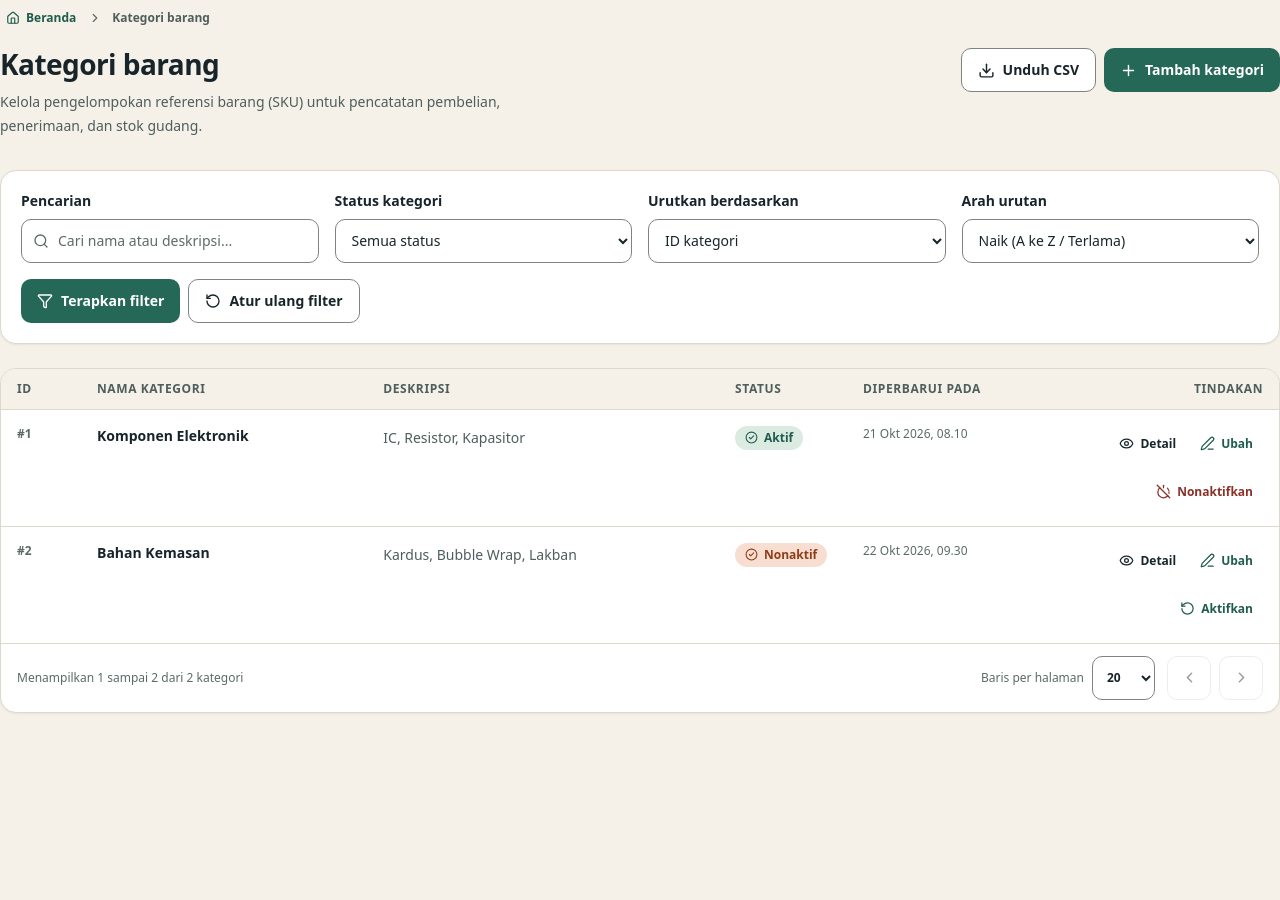
Test: Master Data Kategori Barang (CategoriesPage) › mengubah data kategori dan menangani konfirmasi penonaktifan beserta proteksi 409 ENTITY_IN_USE
expect the text "Komponen Elektronik" is shown: met, box [97,426,249,445]
Click the button named "Ubah kategori Komponen Elektronik": point(1227, 444) [1190,422,1263,466]
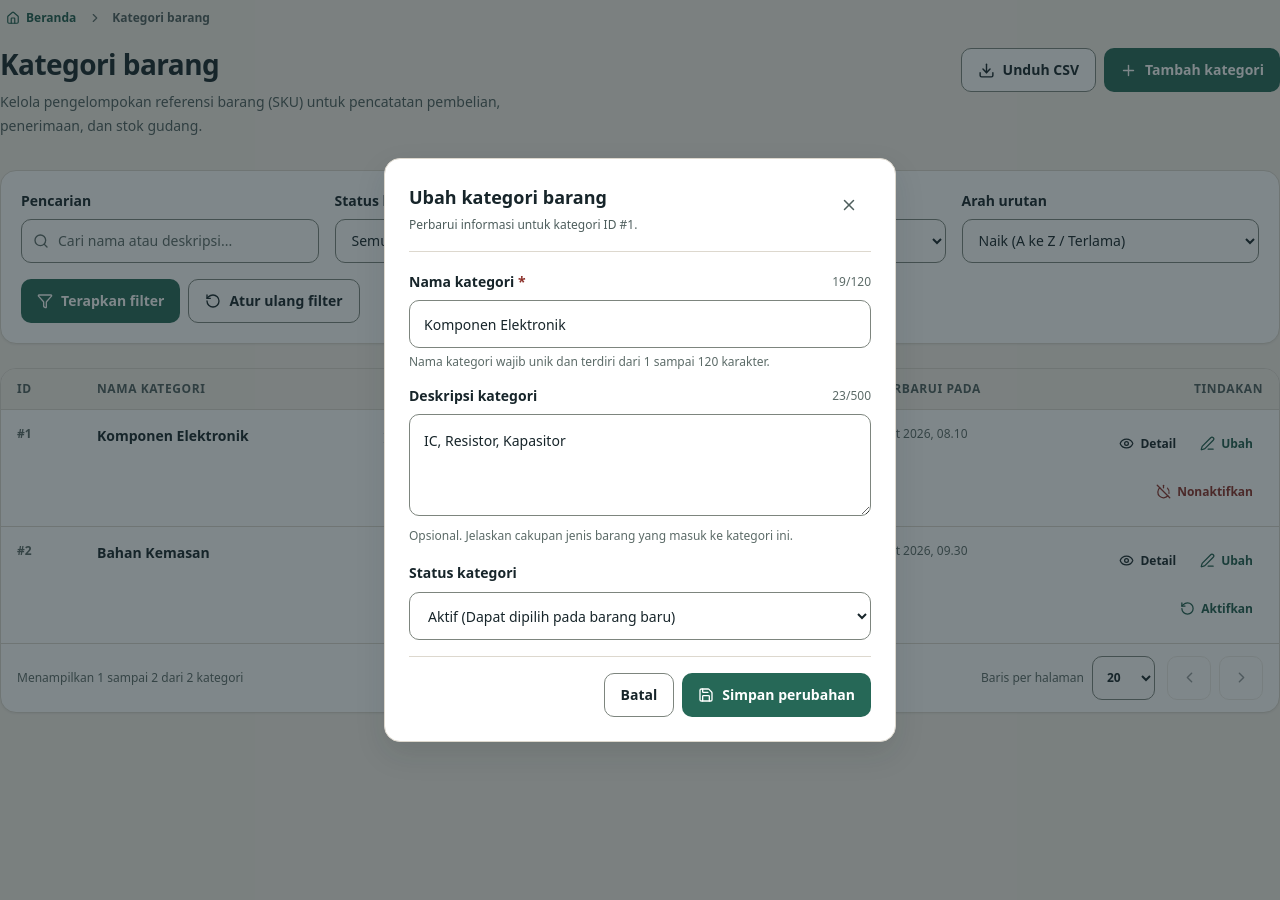
expect the dialog "Ubah kategori barang" is shown: met, box [384,158,896,742]
Replace the text in the field labelled "Nama kategori *" with "Komponen Elektronik Presisi": point(640, 324) [409,300,871,348]
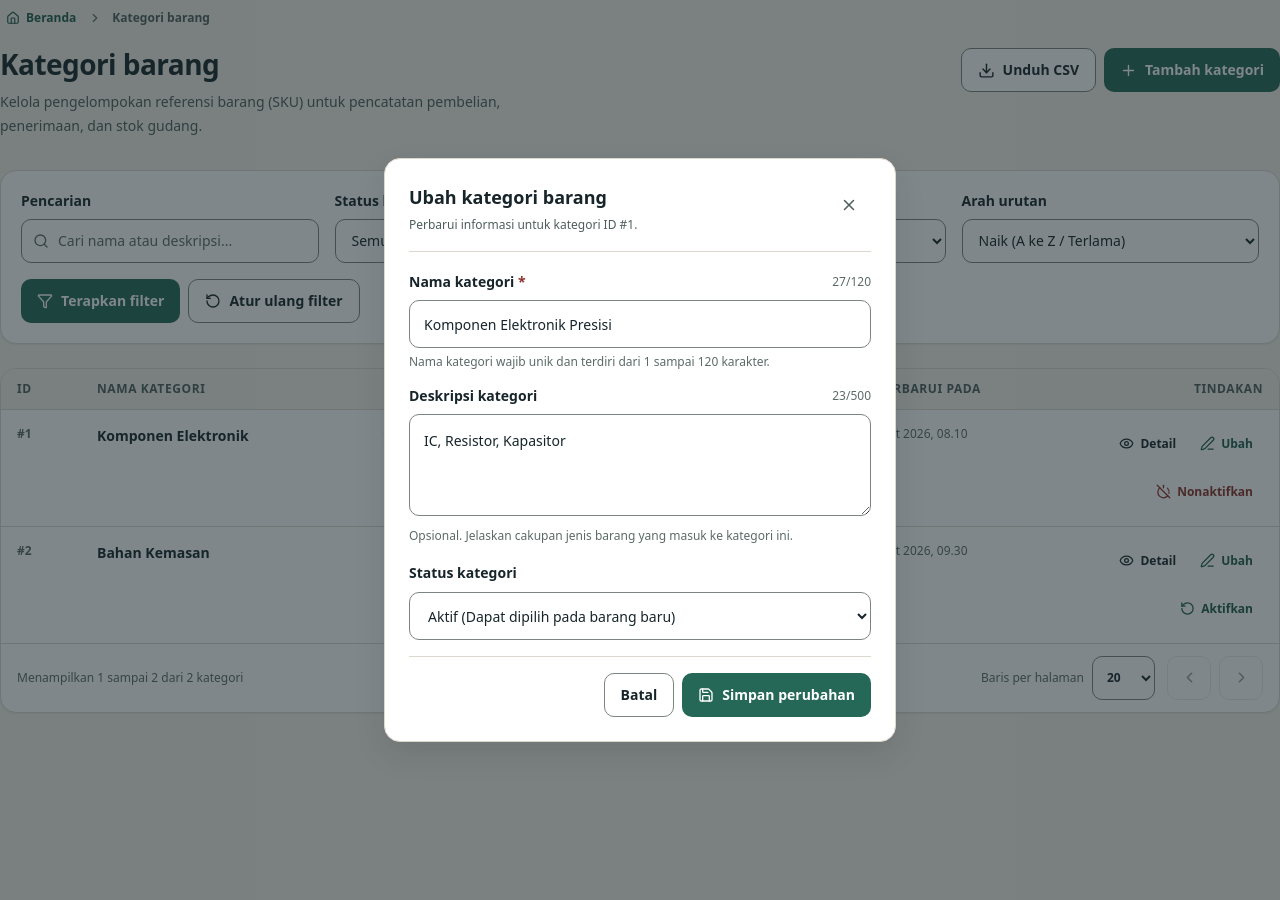
Click the button "Simpan perubahan": point(777, 695) [682,673,871,717]
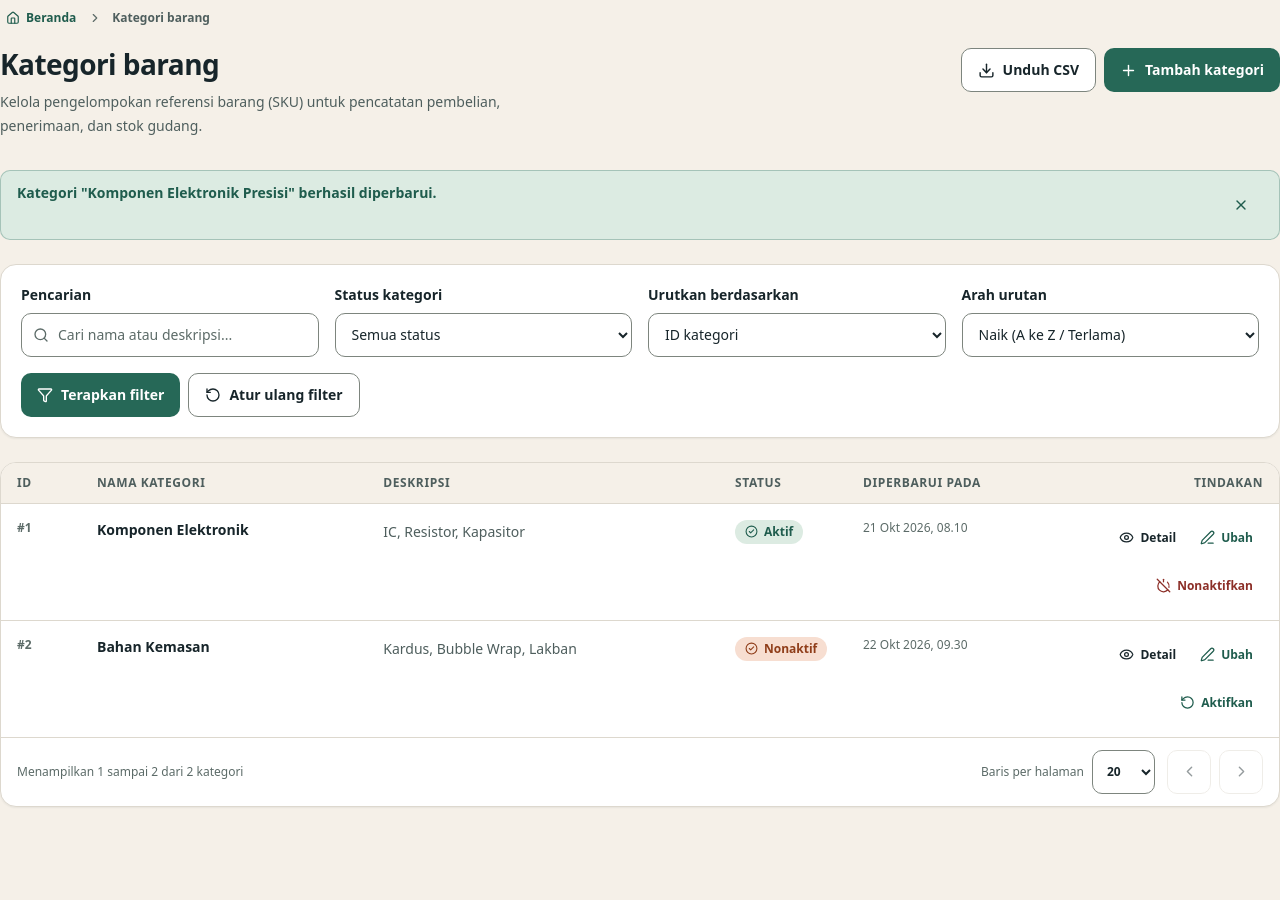
expect the text "Kategori \"Komponen Elektronik Presisi\" berhasil diperbarui." is shown: met, box [17,183,437,203]
Click the button named "Nonaktifkan kategori Komponen Elektronik": point(1205, 586) [1146,564,1263,608]
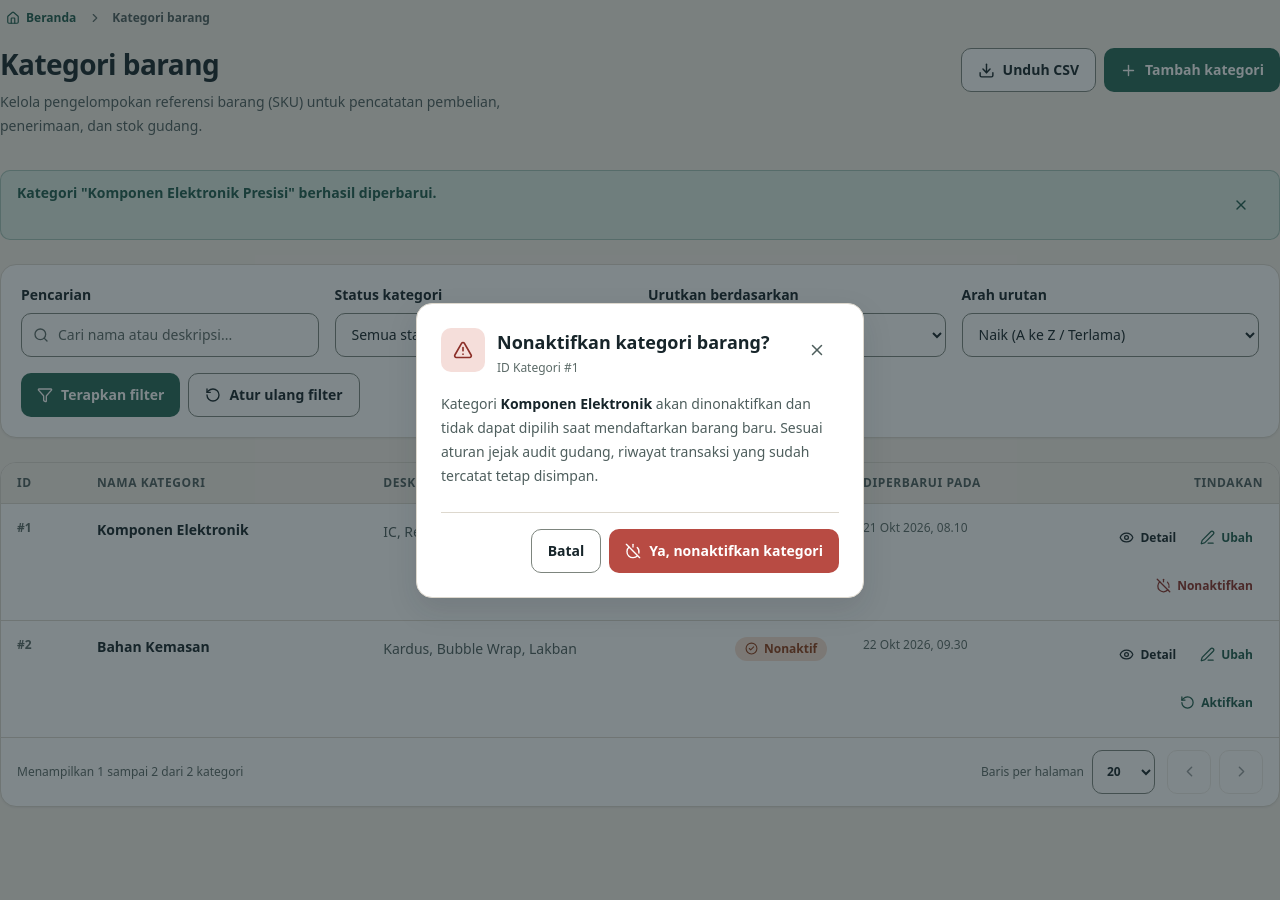
expect the dialog "Nonaktifkan kategori barang?" is shown: met, box [416,302,864,598]
Click the button "Ya, nonaktifkan kategori": point(724, 550) [609,528,839,572]
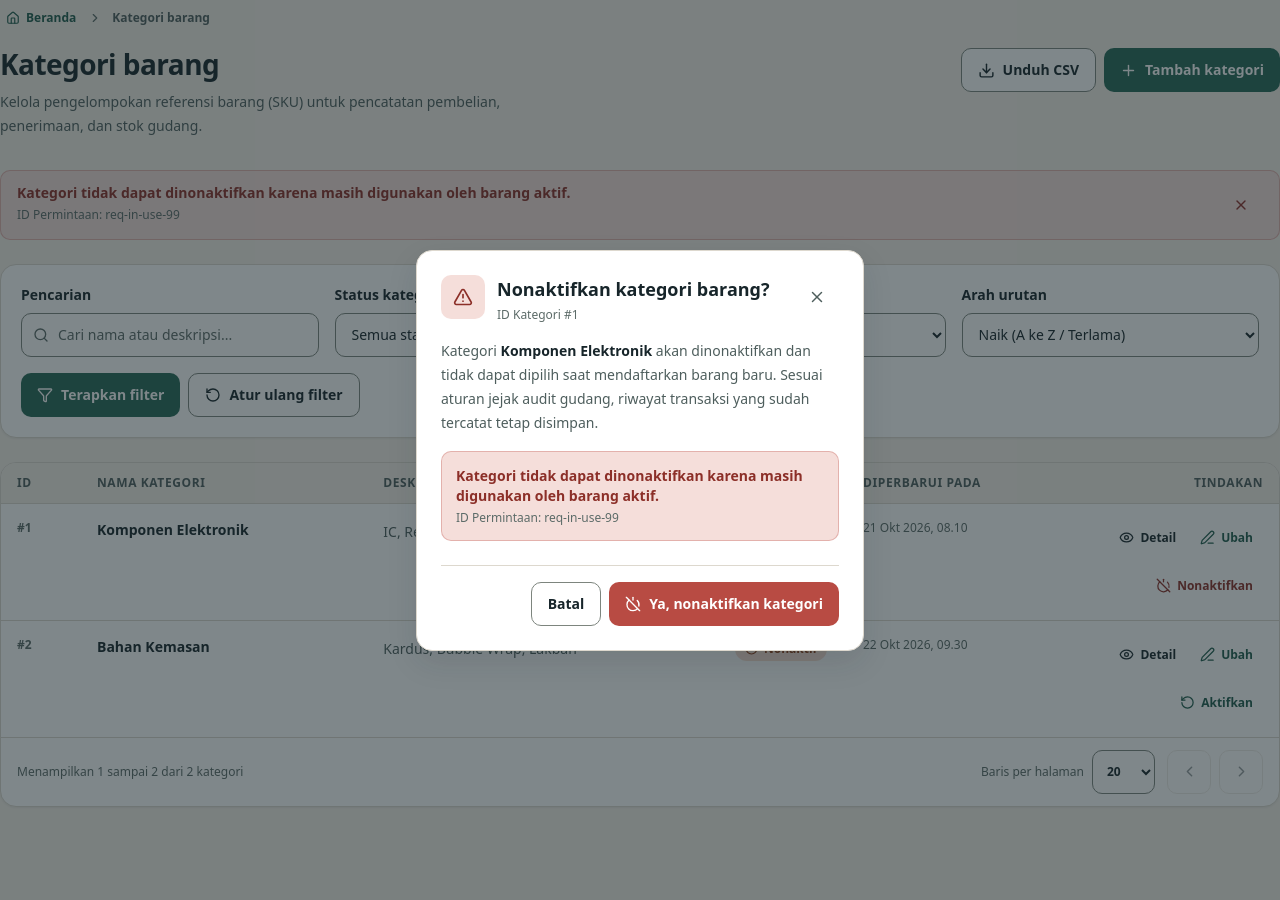
expect the 1st text "Kategori tidak dapat dinonaktifkan karena masih digunakan oleh barang aktif." is shown: met, box [17,183,570,203]
Click the button "Ya, nonaktifkan kategori": point(724, 604) [609,582,839,626]
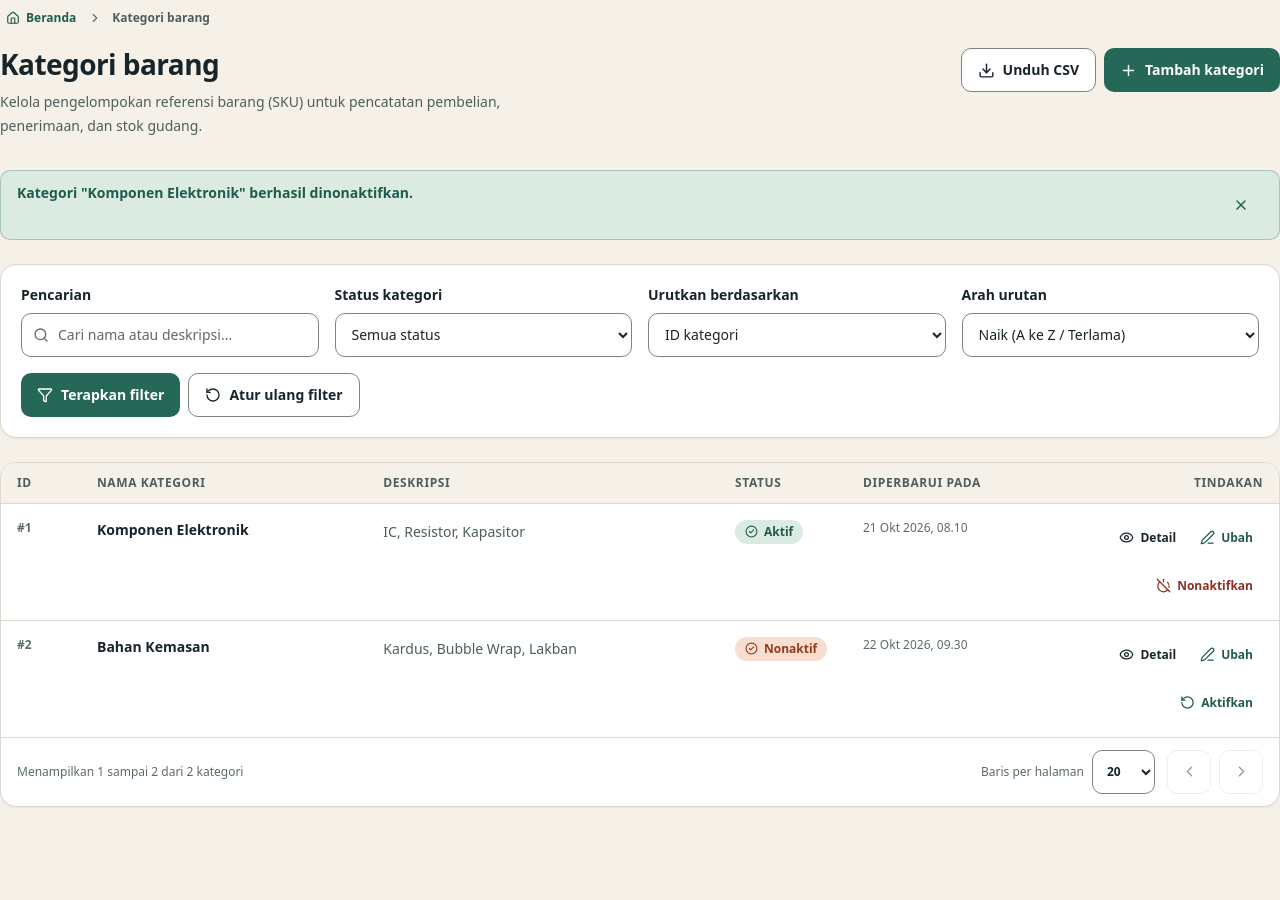
expect the text "Kategori \"Komponen Elektronik\" berhasil dinonaktifkan." is shown: met, box [17,183,413,203]
